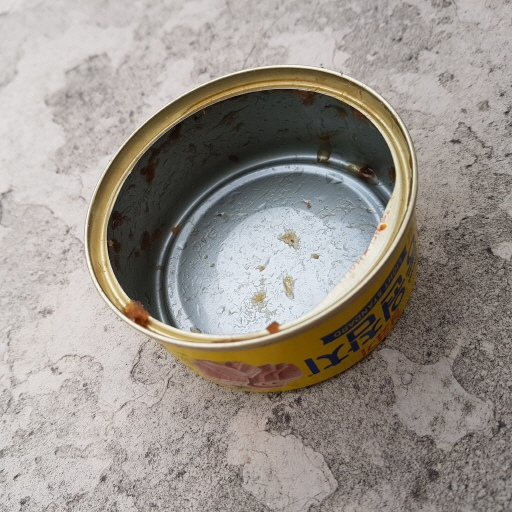Metal_1: (82, 65, 421, 394)
